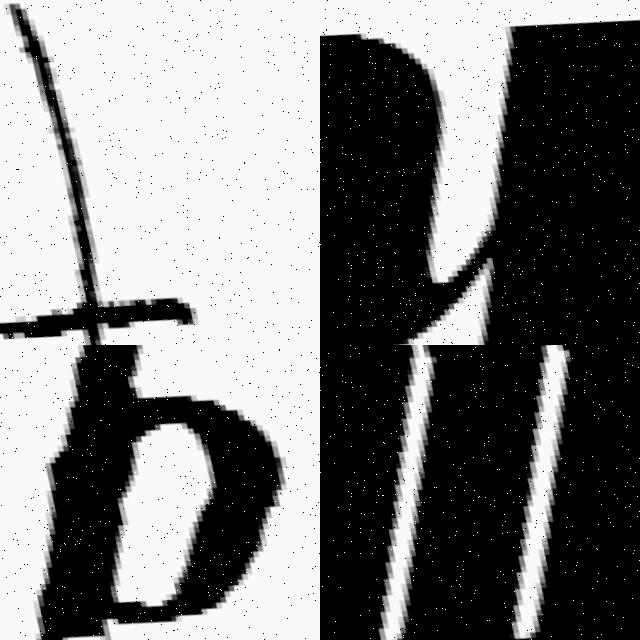F: (0, 0, 189, 345)
H: (320, 5, 640, 345)
M: (320, 345, 640, 640)
Q: (0, 345, 320, 640)
